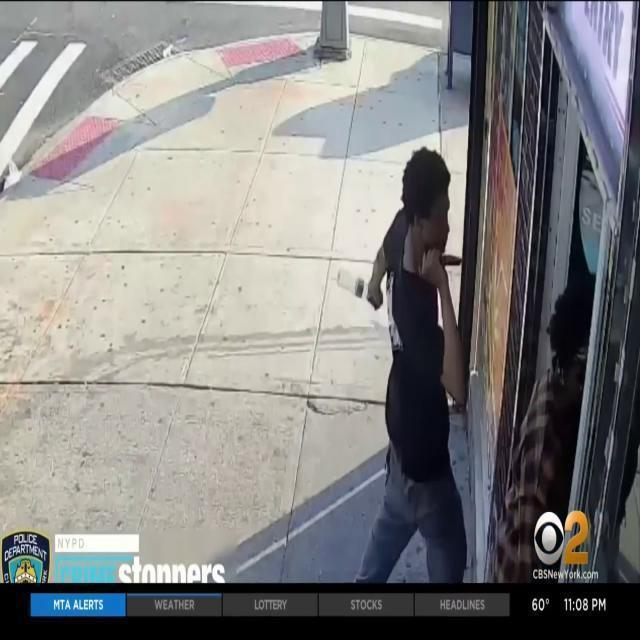Knife: (417, 247, 464, 295)
